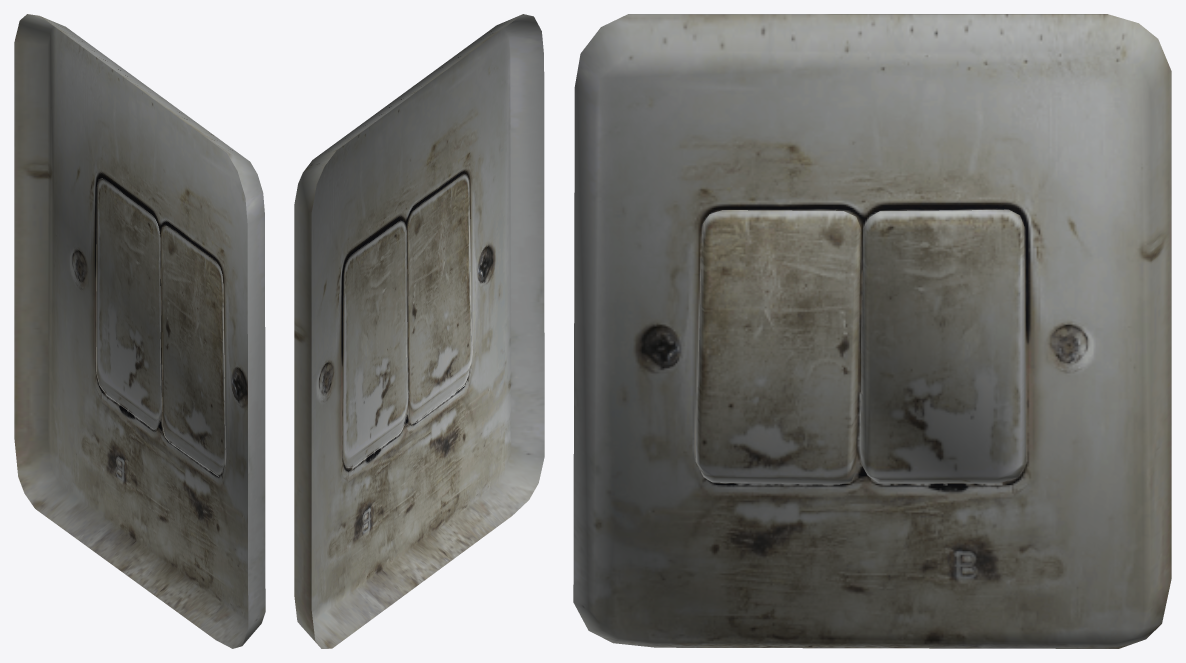
The model's file is Electrical_Switch_03.fbx.
The picture shows the model from 3 angles, left to right: view 1: azimuth 30°, elevation 25°; view 2: azimuth 150°, elevation 25°; view 3: azimuth 270°, elevation 25°; orthographic projection. The views are drawn at different scales.
Visible parts, largest first — view 1: Electrical_Switch_03; view 2: Electrical_Switch_03; view 3: Electrical_Switch_03.
Part boxes in pixels (left/top/right/bottom): Electrical_Switch_03: left=14, top=14, right=265, bottom=648; Electrical_Switch_03: left=294, top=14, right=544, bottom=648; Electrical_Switch_03: left=573, top=14, right=1171, bottom=648.
Size of the model in its own units: 1.18 by 12.97 by 15.2.
Materials: 1 (1 with a texture image).
